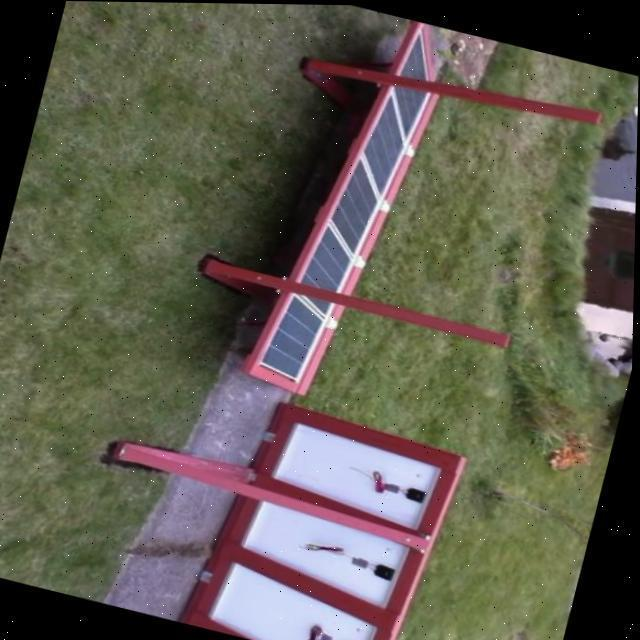Normal Solar Panel: (302, 72, 432, 301), (258, 286, 334, 382), (398, 27, 438, 80)
